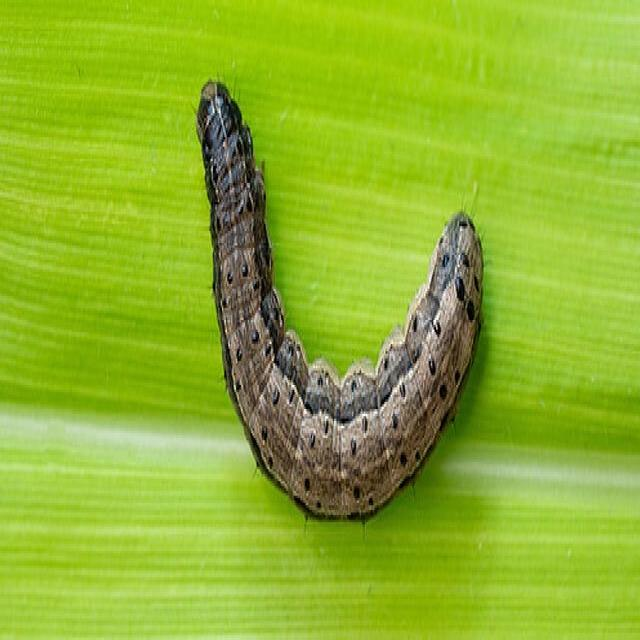armyworm: (194, 75, 484, 522)
